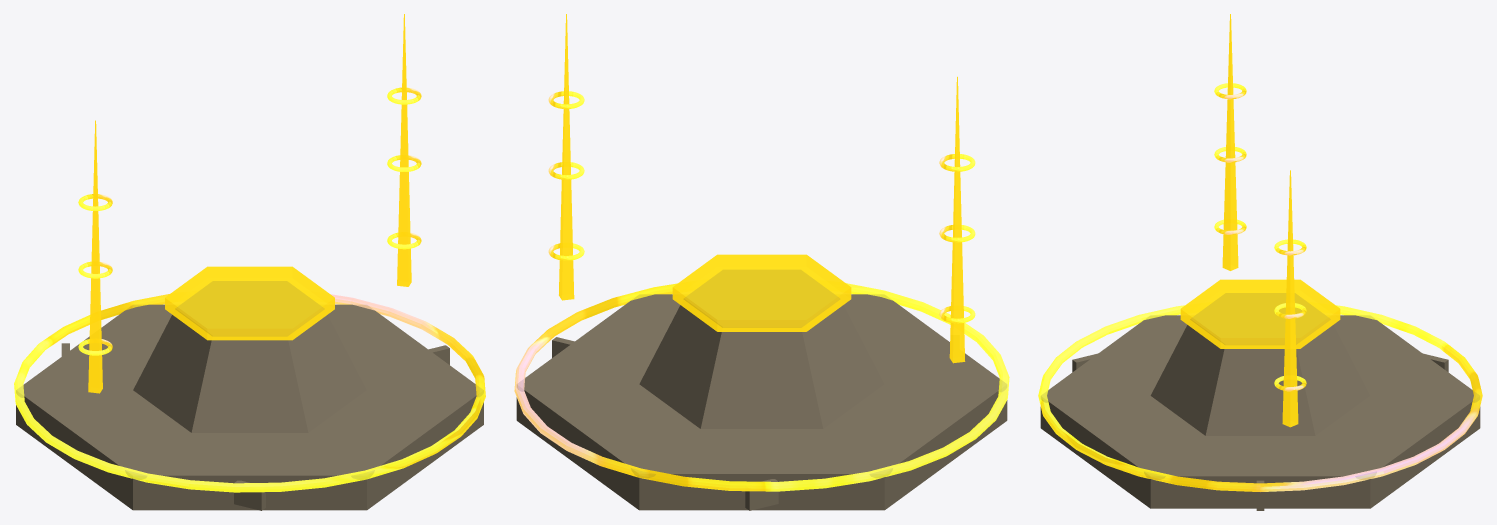
Rendered from solar_extraction_depot.glb.
The picture shows the model from 3 angles, left to right: view 1: azimuth 30°, elevation 25°; view 2: azimuth 150°, elevation 25°; view 3: azimuth 270°, elevation 25°; orthographic projection. The views are drawn at different scales.
Visible parts, largest first — view 1: SolarExtractionDepot; view 2: SolarExtractionDepot; view 3: SolarExtractionDepot.
Part boxes in pixels (x1,y1,x2,y2): SolarExtractionDepot: (14, 14, 485, 510); SolarExtractionDepot: (514, 14, 1009, 510); SolarExtractionDepot: (1038, 14, 1482, 510).
Bounding box in the file's own units: 4.45 × 3.71 × 4.45.
Materials: 2 (2 with a texture image).
